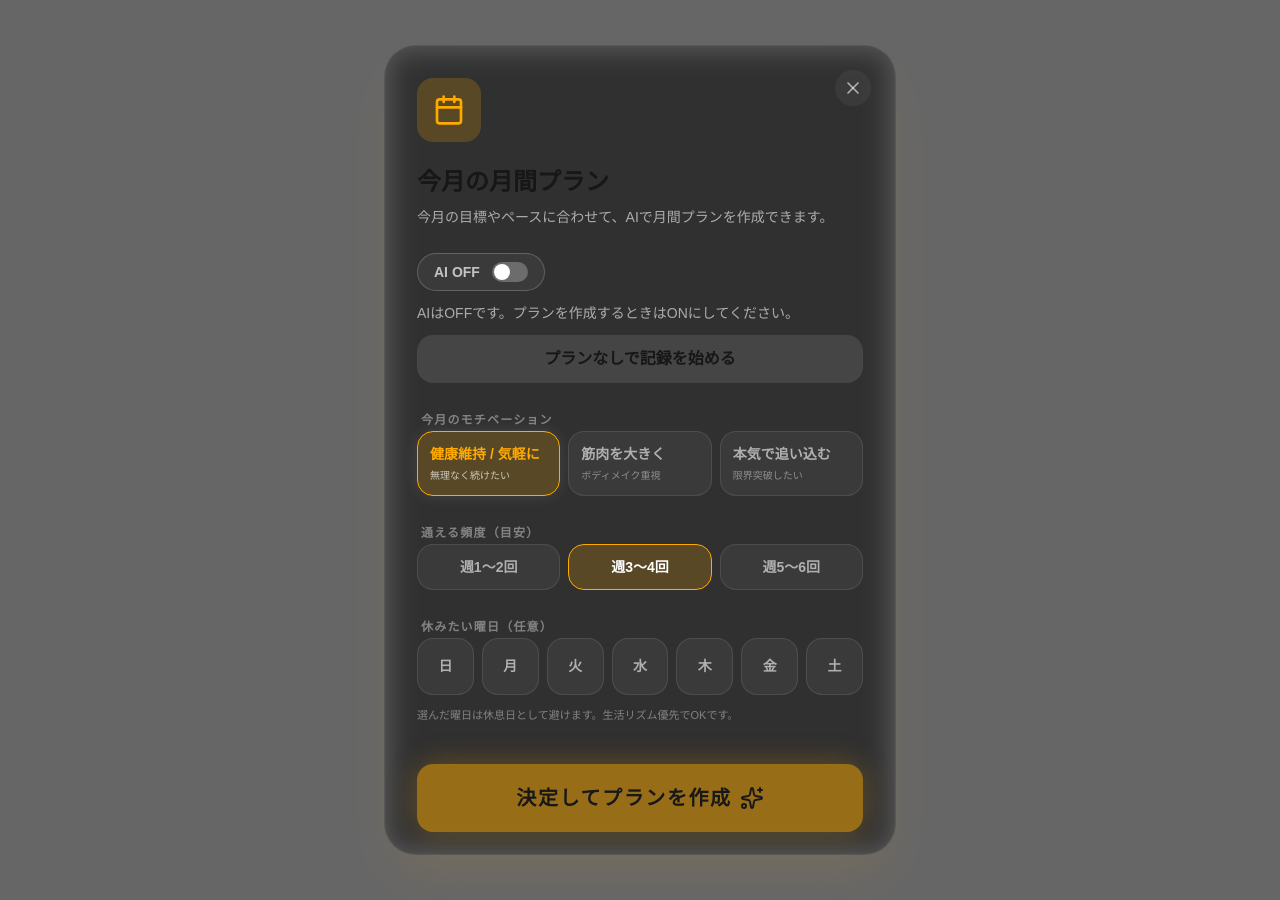
Test case: 生成中にOFF→ONにしても古いプランを反映せず、再生成しない
The width and height of the screenshot is (1280, 900).
Click the switch.
click(481, 272)  # box [417, 253, 545, 291]
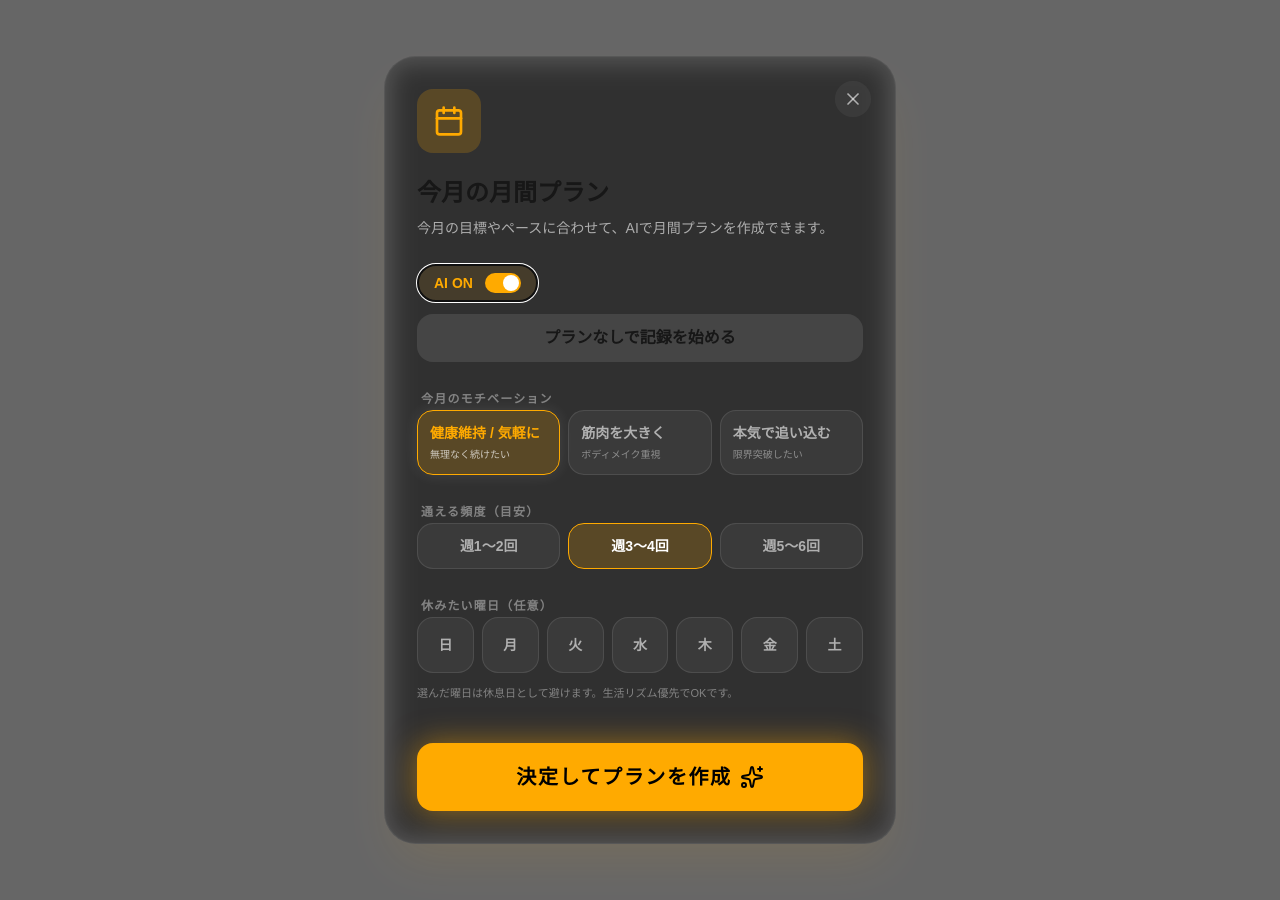
Click the button "決定してプランを作成".
click(640, 777)  # box [417, 743, 863, 811]
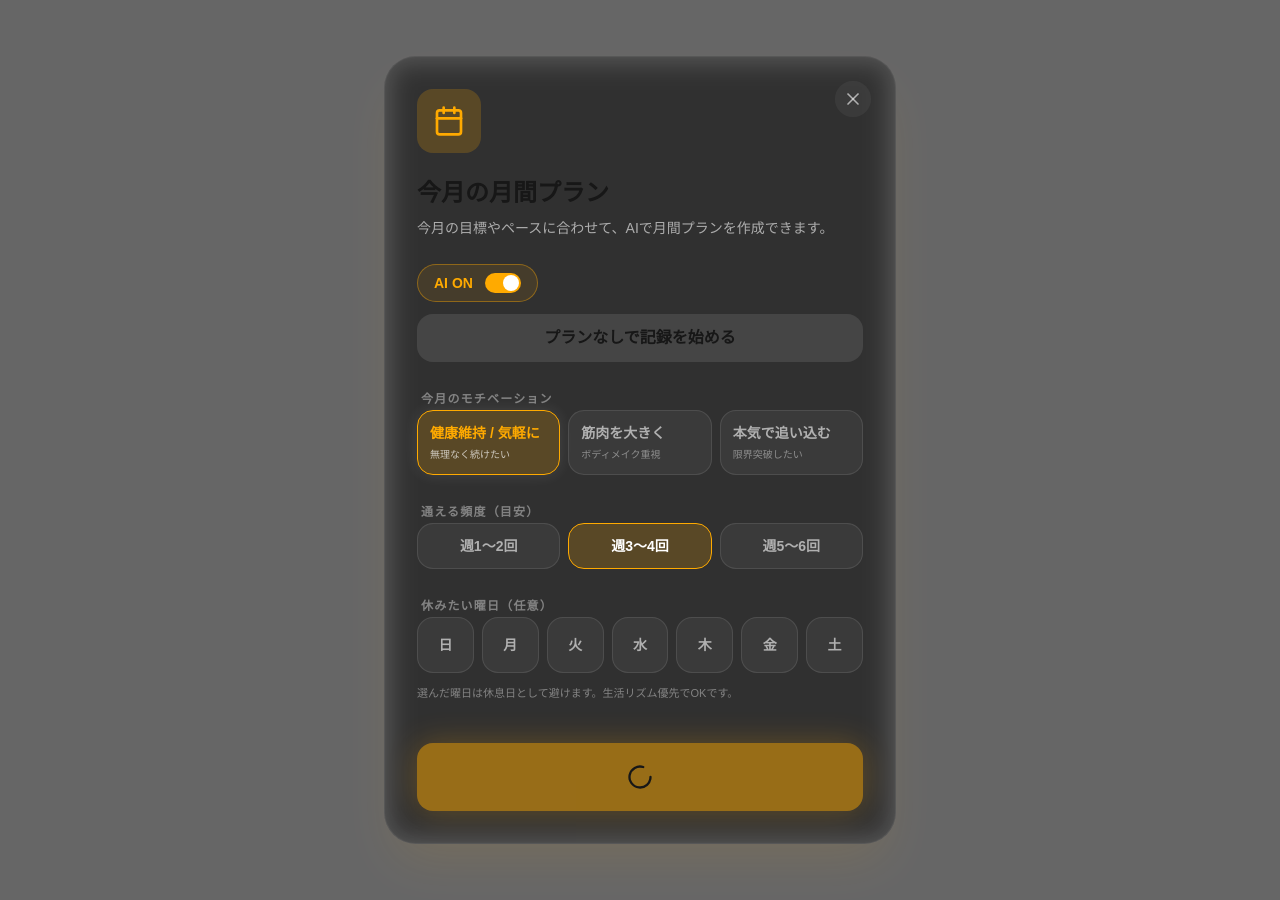
Click the switch.
click(477, 282)  # box [417, 264, 538, 302]
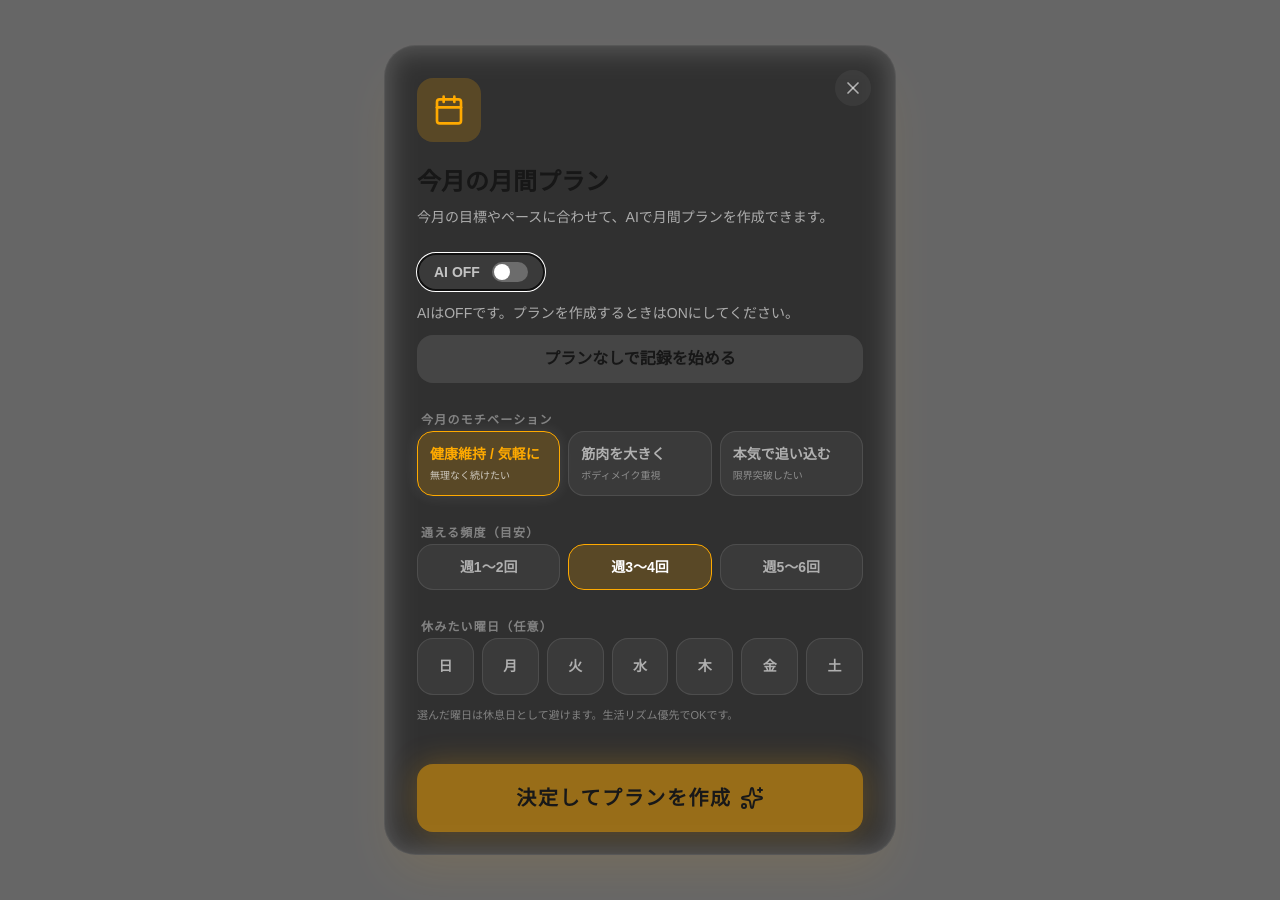
Click the switch.
click(481, 272)  # box [417, 253, 545, 291]
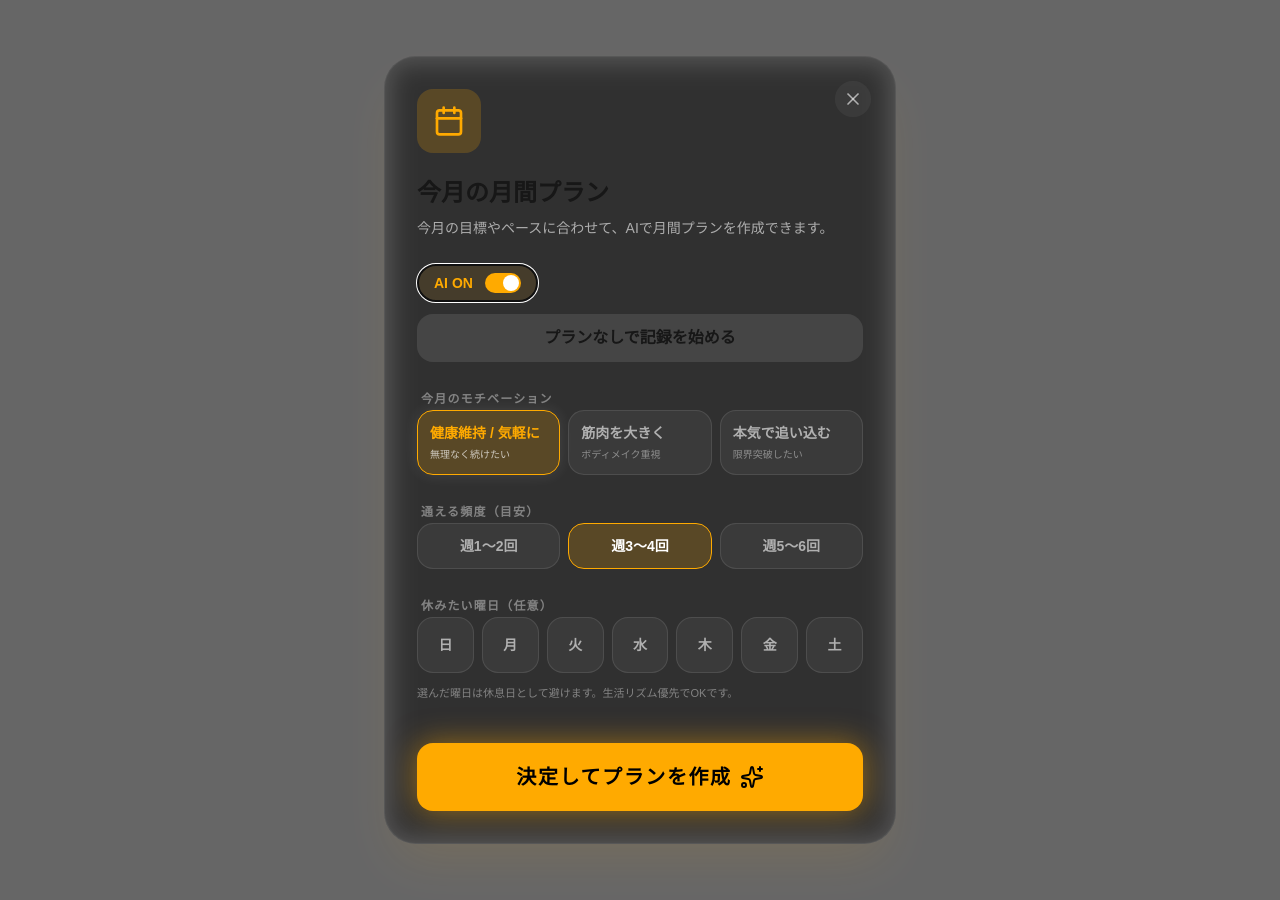
expect the button "決定してプランを作成" is enabled: met, box [417, 743, 863, 811]
